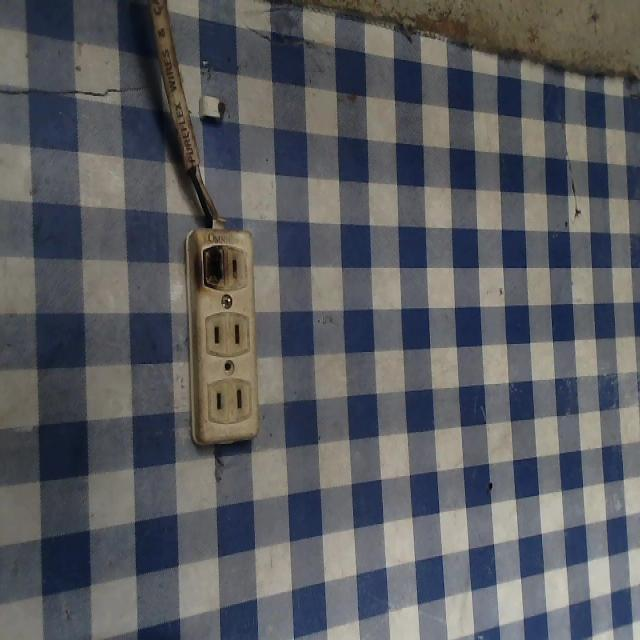-: (193, 241, 228, 291)
